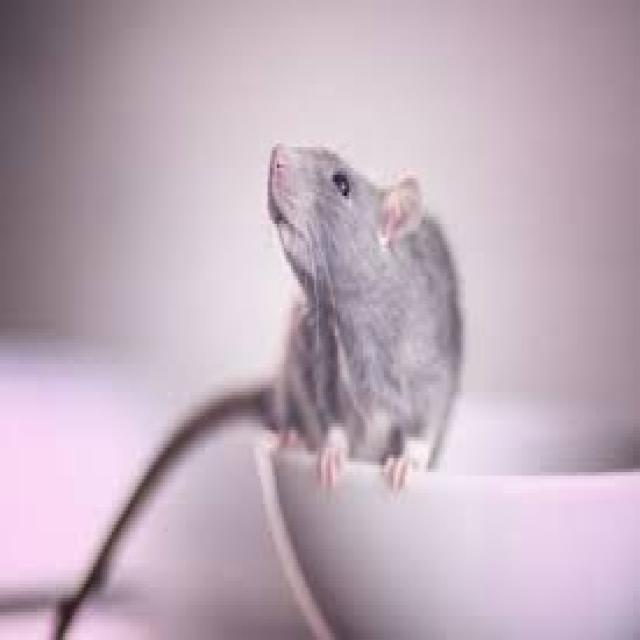rat: (54, 143, 461, 637)
